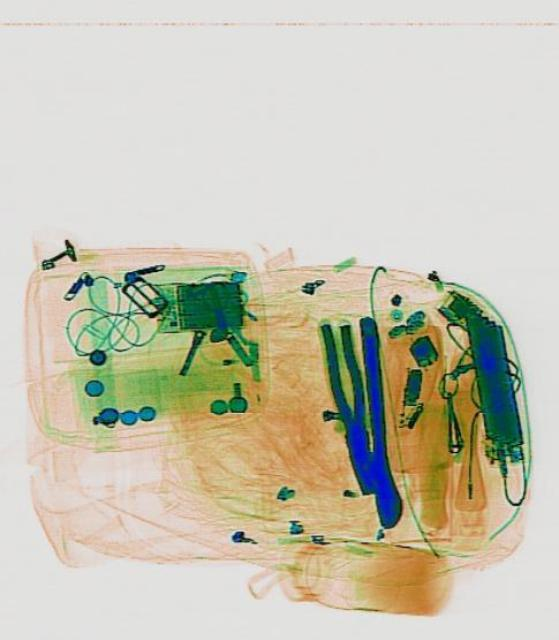Pliers: (313, 315, 385, 497)
Wrench: (349, 314, 403, 530)
